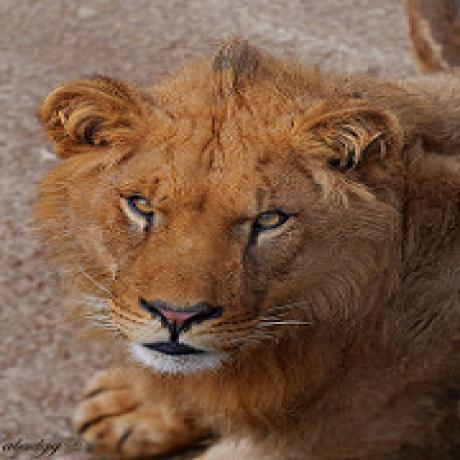Lion: (37, 39, 460, 460)
